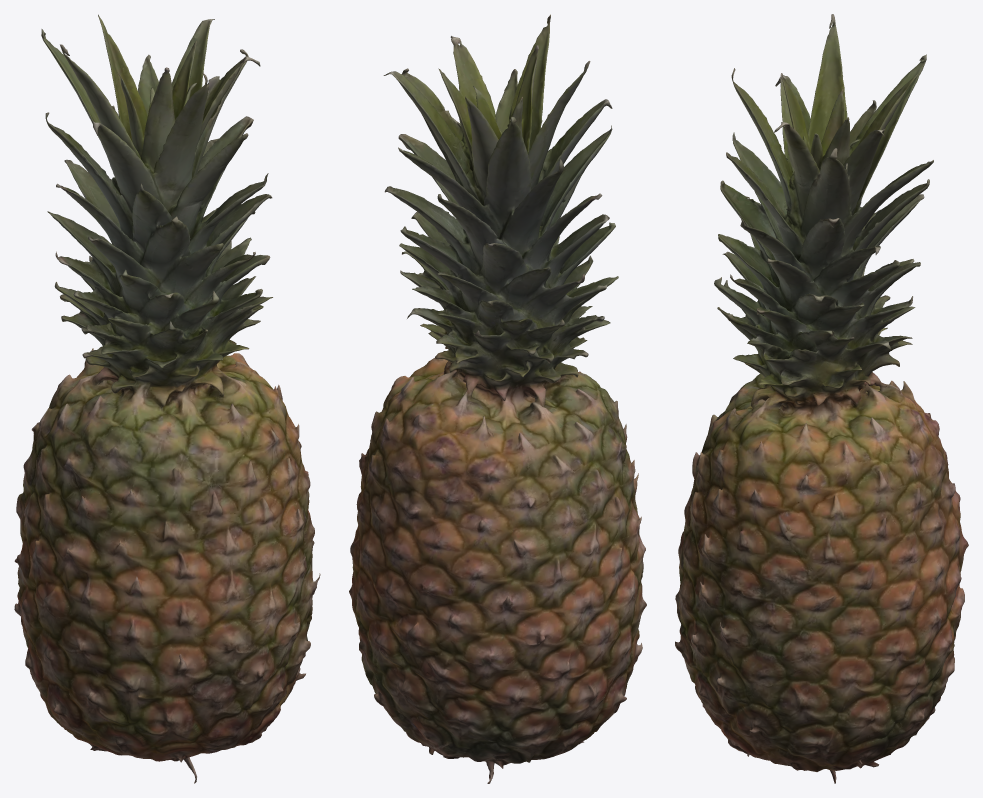
The model's file is pineapple-transformed.glb.
3 renders of one model, left to right at view 1: azimuth 30°, elevation 25°; view 2: azimuth 150°, elevation 25°; view 3: azimuth 270°, elevation 25°, orthographic. The views are drawn at different scales.
Visible parts, largest first — view 1: Object_3; view 2: Object_3; view 3: Object_3.
Boxes of the visible parts, x1,y1,x2,y2 form: Object_3: (14,14,320,783); Object_3: (349,14,646,783); Object_3: (675,14,968,783).
Size of the model in its own units: 11.97 by 32.75 by 12.45.
Materials: 1 (1 with a texture image).
